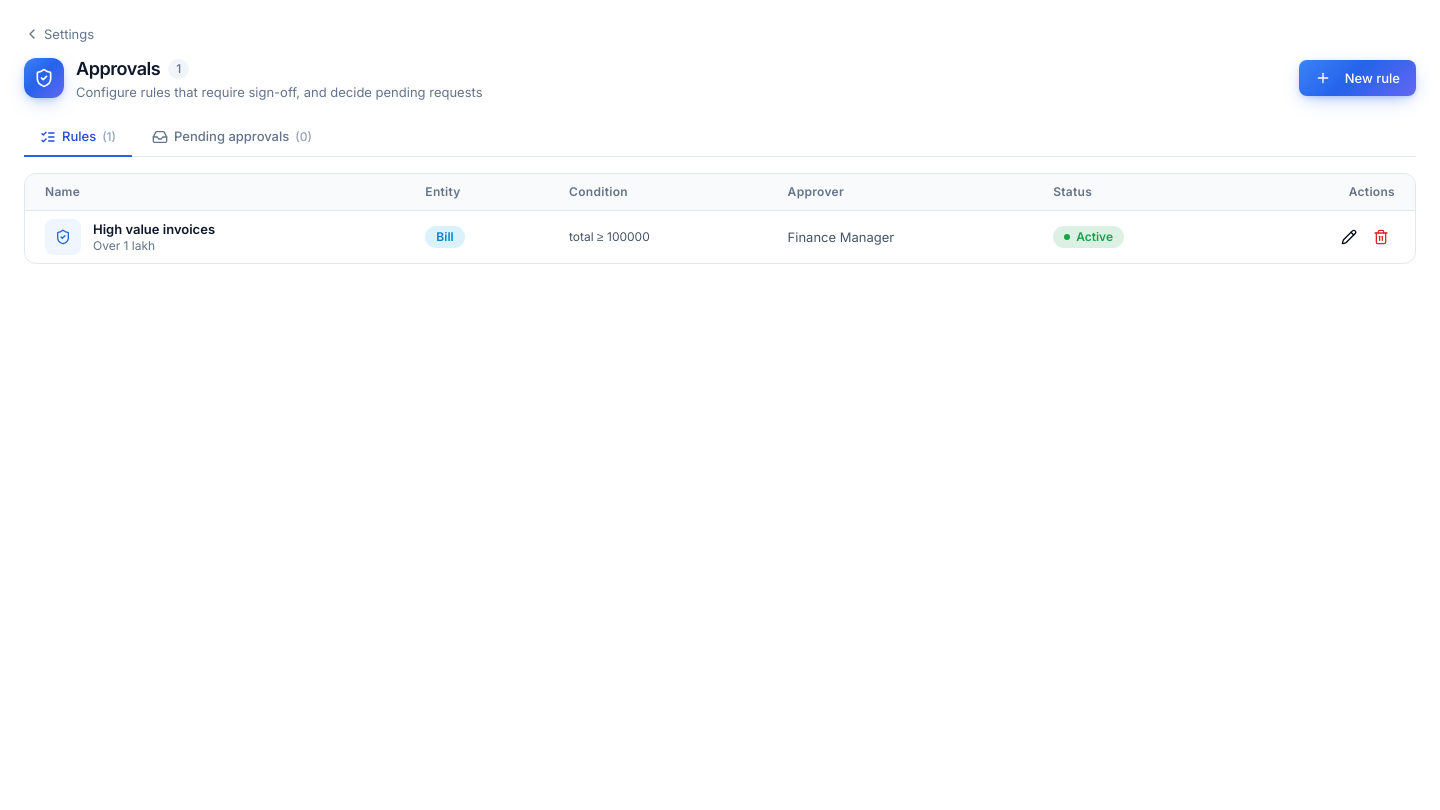
ApprovalsView › opens the rule form when New rule is clicked
The image size is (1440, 810).
What coordinates should you click on to do the following:
click the button "New rule"
I would click on:
 (1357, 78)
Its box is [1299,60,1416,96].
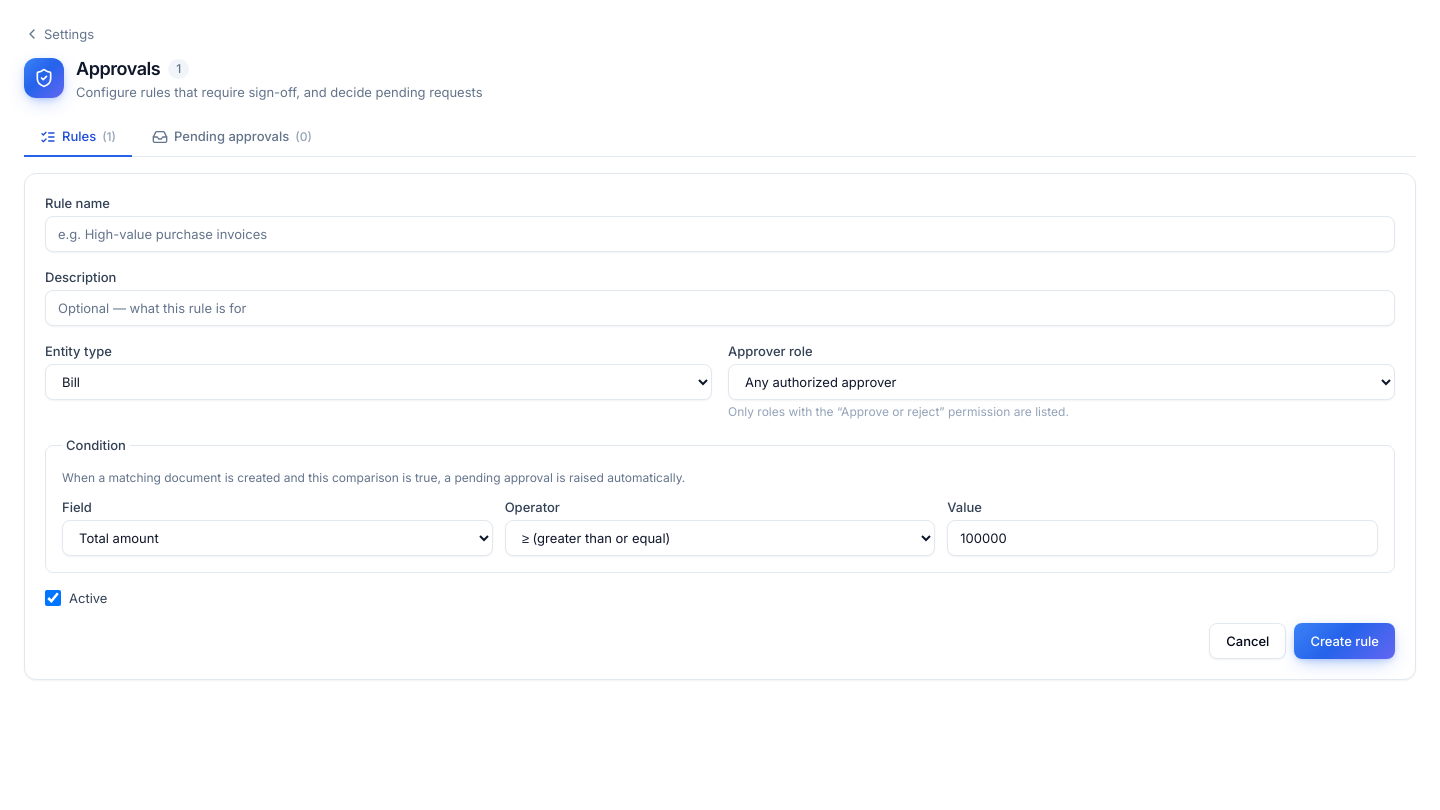
Expected: the form named "create approval rule" is shown
